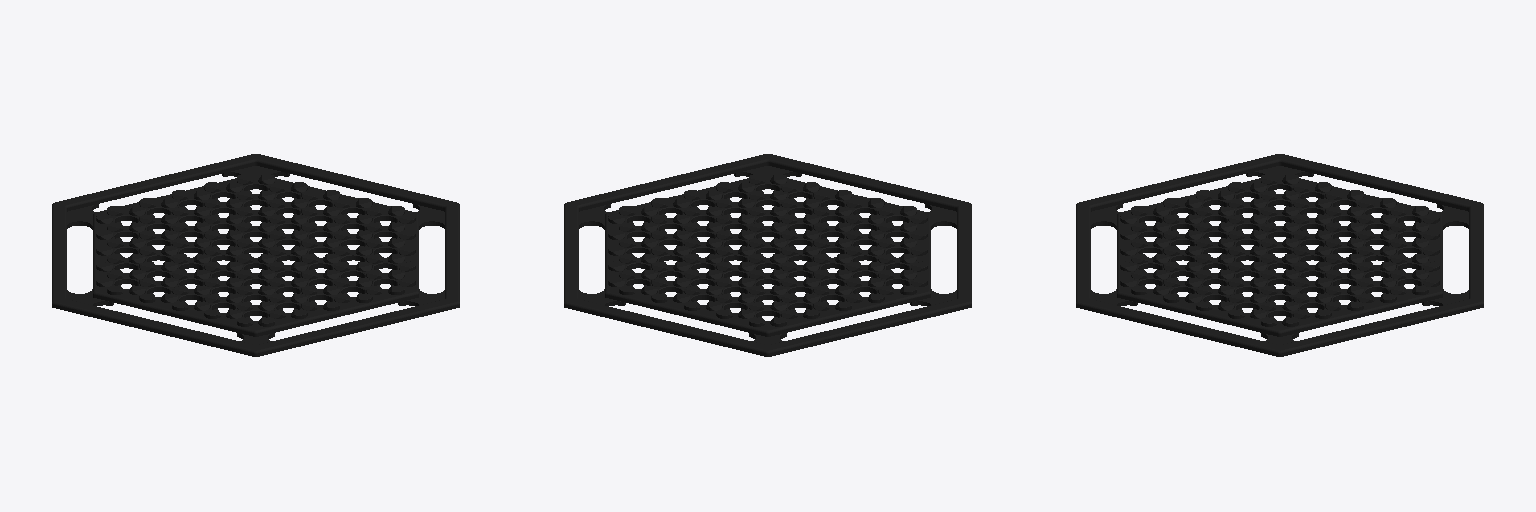
Rendered from board_bevel.obj.
3 renders of one model, left to right at view 1: azimuth 30°, elevation 25°; view 2: azimuth 150°, elevation 25°; view 3: azimuth 270°, elevation 25°, orthographic.
Visible parts, largest first — view 1: Board_Plane.001, Ring_Plane; view 2: Board_Plane.001, Ring_Plane; view 3: Board_Plane.001, Ring_Plane.
Part boxes in pixels (left/top/right/bottom): Board_Plane.001: left=93, top=174, right=418, bottom=336; Ring_Plane: left=52, top=154, right=459, bottom=356; Board_Plane.001: left=605, top=174, right=930, bottom=336; Ring_Plane: left=564, top=154, right=971, bottom=356; Board_Plane.001: left=1117, top=174, right=1442, bottom=336; Ring_Plane: left=1076, top=154, right=1483, bottom=356.
Size of the model in its own units: 31.3 by 1.06 by 27.16.